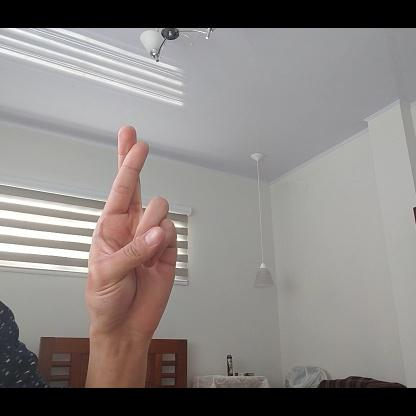R: (86, 120, 181, 340)
